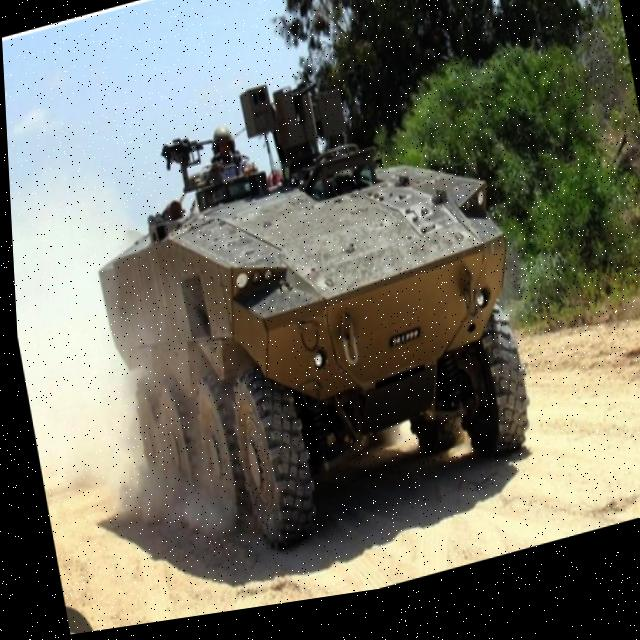MIL_APC: (57, 66, 549, 589)
